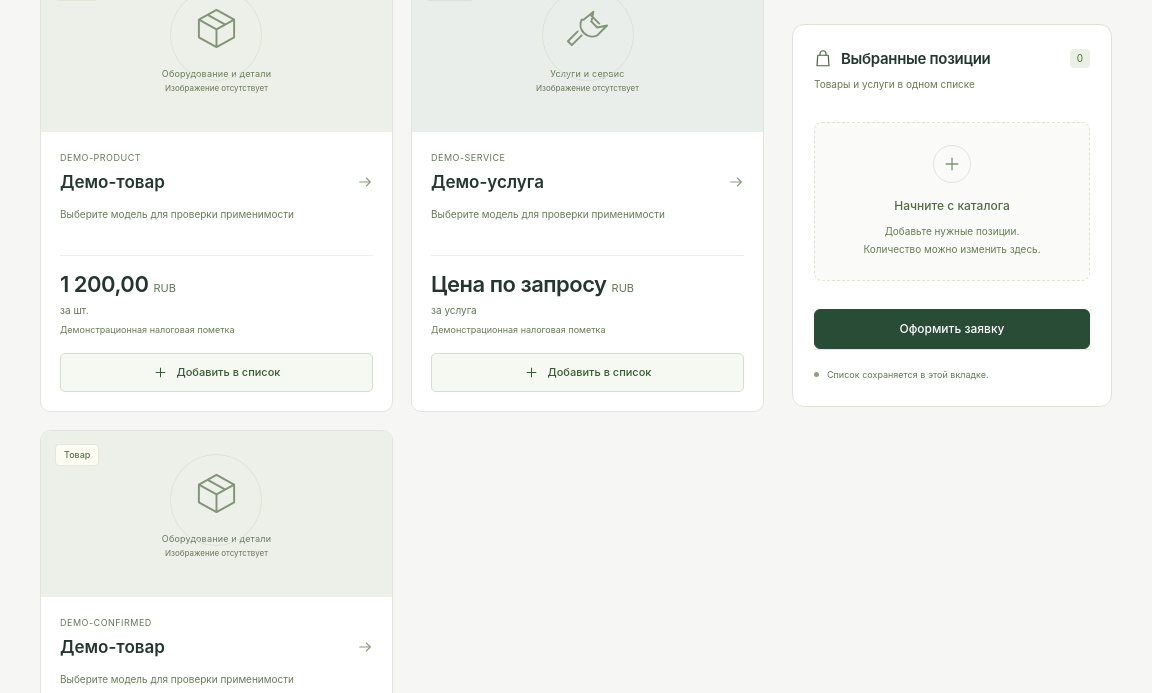
Scenario: catalog creates no chat until opening; navigation preserves the selected items
(page scrolled)
Click the button "Добавить в список" below "DEMO-PRODUCT" at point(216, 373), box [60, 353, 373, 392]
(page scrolled)
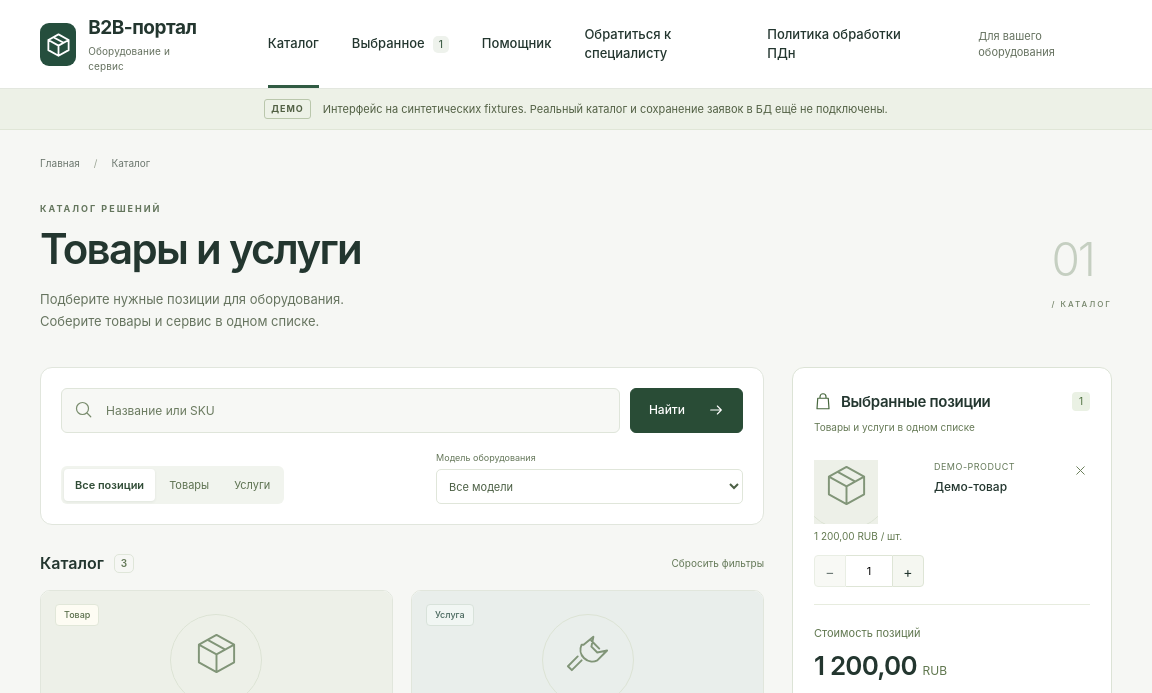
Click the link "Помощник" at point(517, 43), box [482, 35, 551, 51]
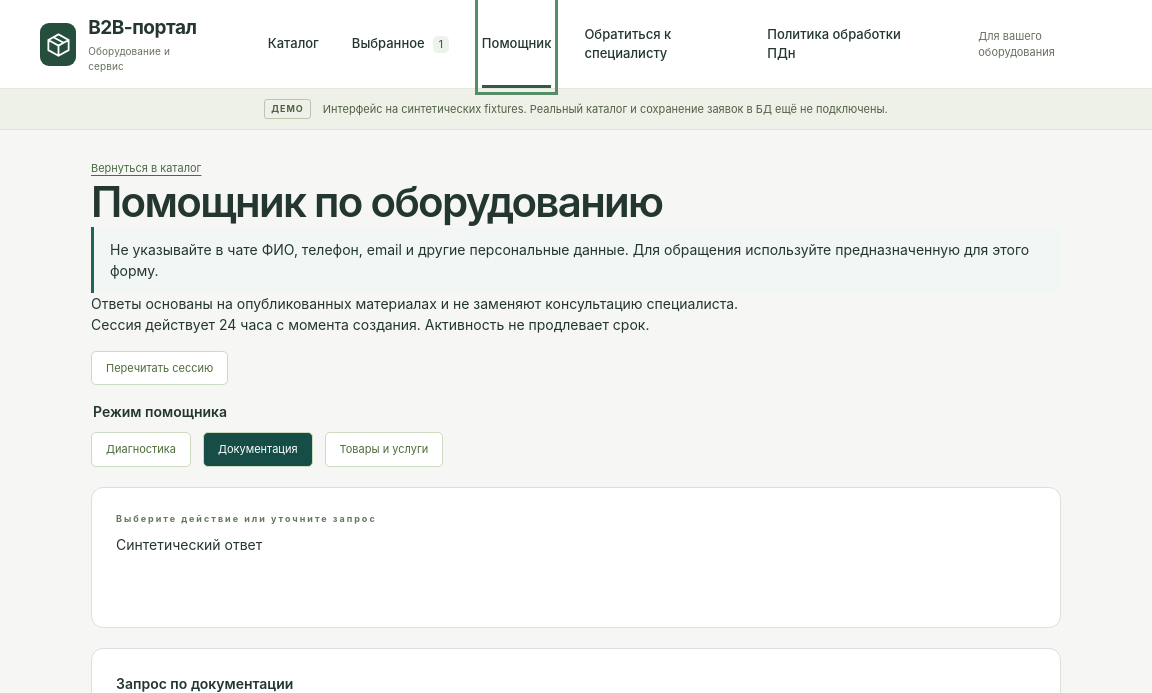
Now the heading "Помощник по оборудованию" is shown, box [91, 176, 662, 226]
Now the element named "Актуальный ответ" is shown, box [91, 487, 1061, 628]
Click the button "Вернуться в каталог" at point(146, 168), box [91, 160, 201, 176]
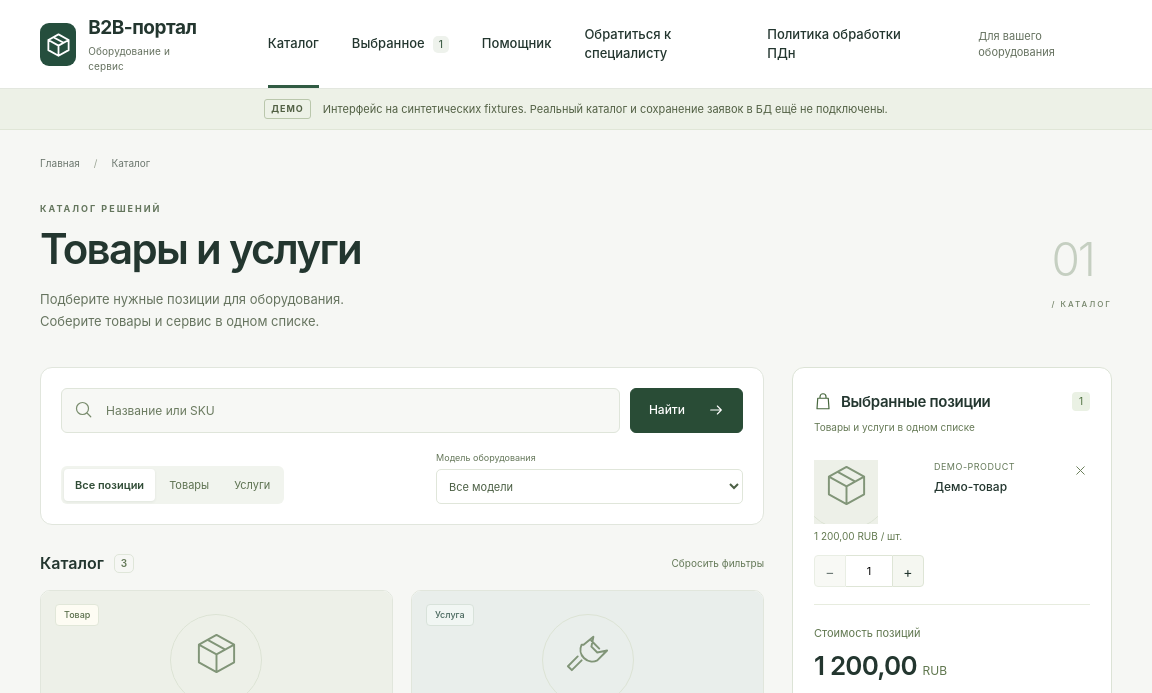
Now the heading "Товары и услуги" is shown, box [40, 224, 361, 274]
